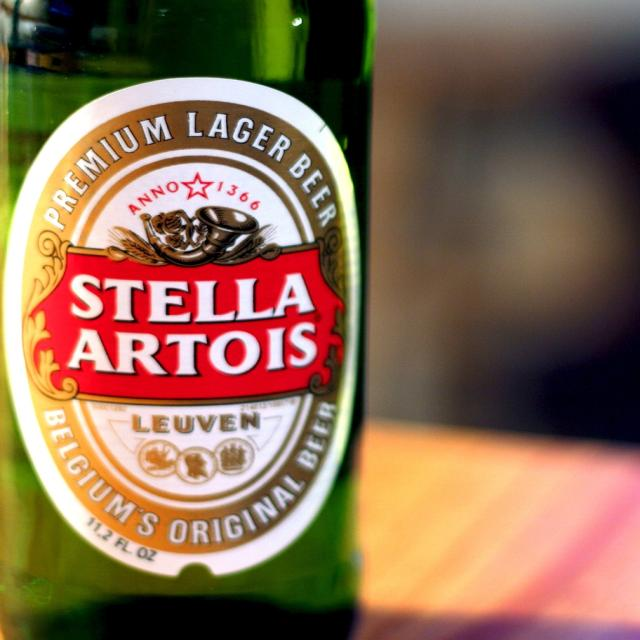stellaartois: (19, 101, 352, 557)
